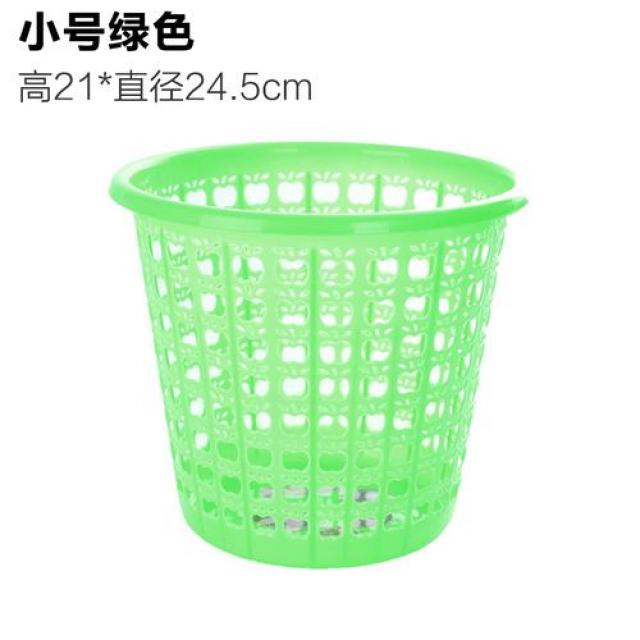Dustbin: (101, 134, 535, 573)
